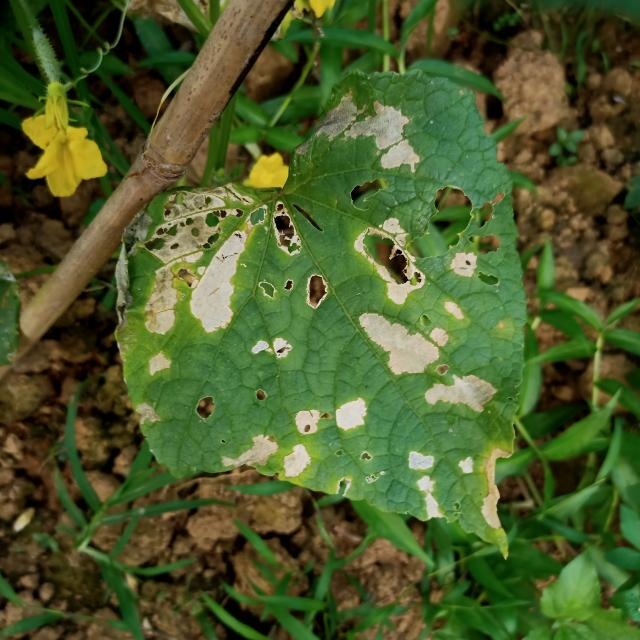disease_cucumber: (93, 89, 512, 335), (127, 319, 555, 528)
